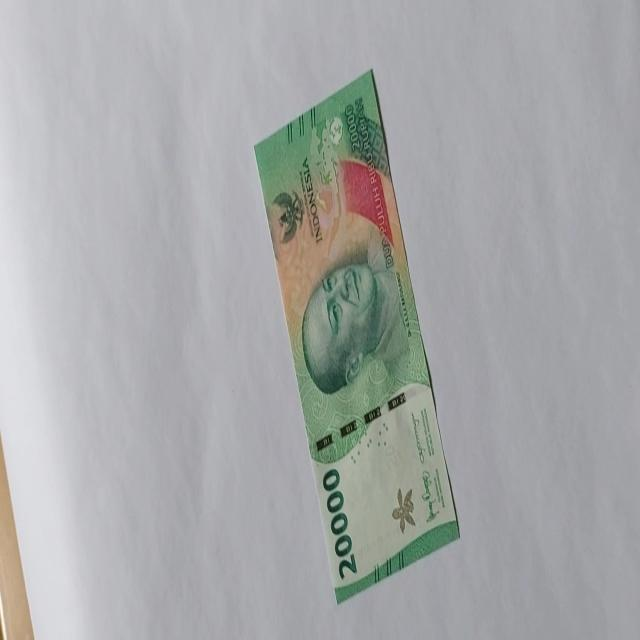dua puluh ribu rupiah: (253, 66, 461, 604)
